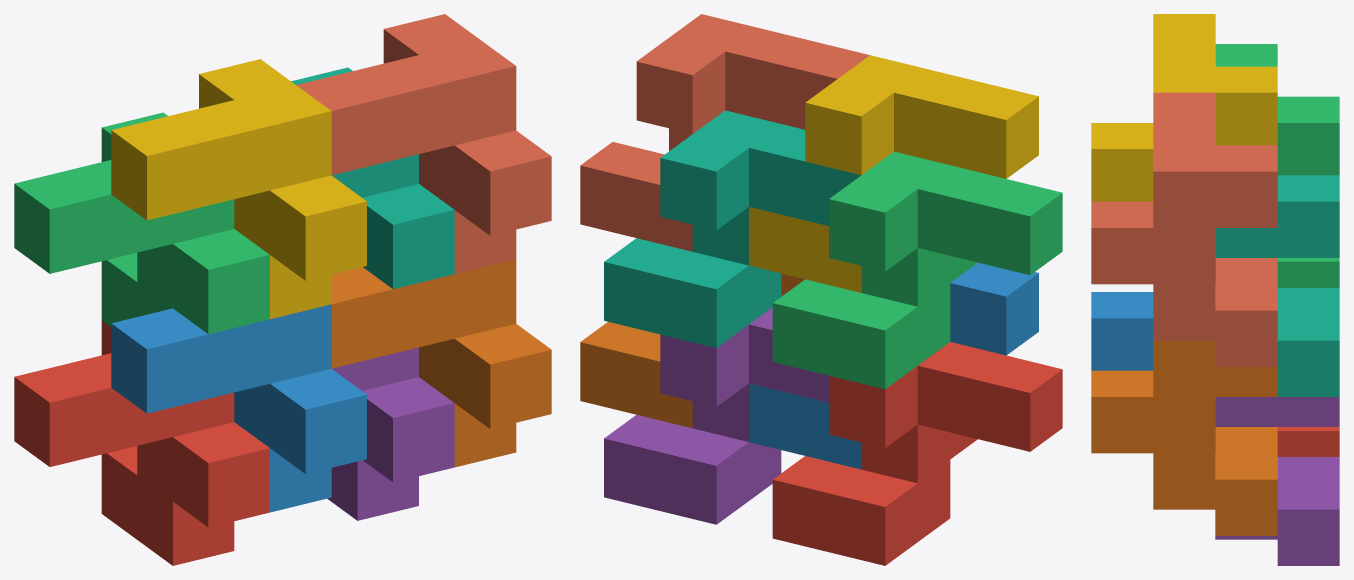
File: tiling.obj
3 views of the same model, side by side, from view 1: azimuth 30°, elevation 25°; view 2: azimuth 150°, elevation 25°; view 3: azimuth 270°, elevation 25° (orthographic). The views are drawn at different scales.
Visible parts, largest first — view 1: copy_1_domain_4, copy_1_domain_8, copy_1_domain_1, copy_1_domain_2, copy_1_domain_3, copy_1_domain_6, copy_1_domain_5, copy_1_domain_7; view 2: copy_1_domain_3, copy_1_domain_1, copy_1_domain_7, copy_1_domain_4, copy_1_domain_8, copy_1_domain_5, copy_1_domain_2, copy_1_domain_6; view 3: copy_1_domain_8, copy_1_domain_6, copy_1_domain_4, copy_1_domain_7, copy_1_domain_5, copy_1_domain_3, copy_1_domain_2, copy_1_domain_1.
Part boxes in pixels (x1,y1,x2,y2): copy_1_domain_4: (111,59,366,319); copy_1_domain_8: (296,14,551,273); copy_1_domain_1: (14,321,269,565); copy_1_domain_2: (111,304,366,512); copy_1_domain_3: (14,112,269,334); copy_1_domain_6: (331,259,551,467); copy_1_domain_5: (327,347,454,520); copy_1_domain_7: (291,67,454,289); copy_1_domain_3: (772,151,1062,389); copy_1_domain_1: (772,342,1062,565); copy_1_domain_7: (604,110,860,347); copy_1_domain_4: (749,55,1038,292); copy_1_domain_8: (580,14,869,251); copy_1_domain_5: (604,307,828,524); copy_1_domain_2: (749,262,1038,469); copy_1_domain_6: (580,273,804,428); copy_1_domain_8: (1091,92,1277,366); copy_1_domain_6: (1091,340,1277,535); copy_1_domain_4: (1091,14,1277,201); copy_1_domain_7: (1215,175,1339,396); copy_1_domain_5: (1215,397,1339,565); copy_1_domain_3: (1215,44,1339,287); copy_1_domain_2: (1091,292,1153,370); copy_1_domain_1: (1277,427,1339,456).
Bounding box in the file's own units: 8 × 7 × 4.
